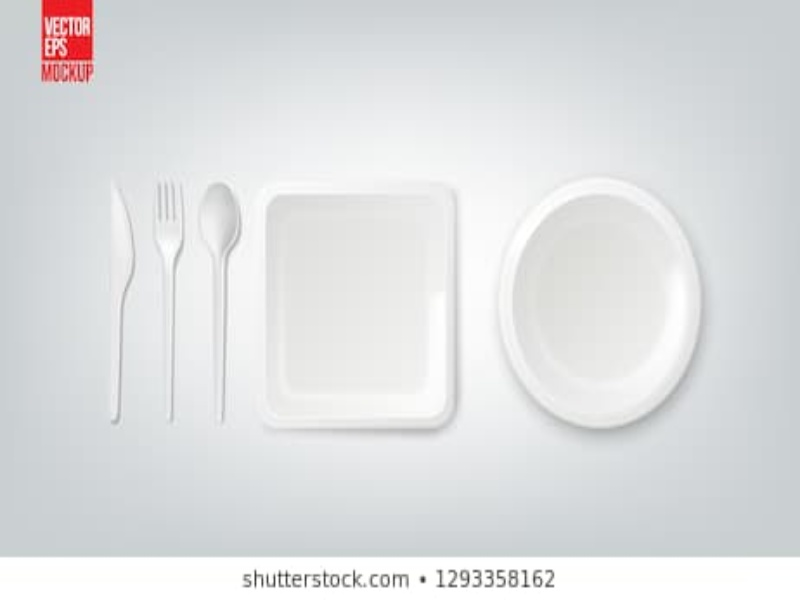plastic-plate: (495, 167, 708, 437)
plastic-silverware: (191, 176, 245, 436), (148, 177, 199, 427), (97, 174, 140, 426)
plastic-tray: (255, 181, 467, 433)
